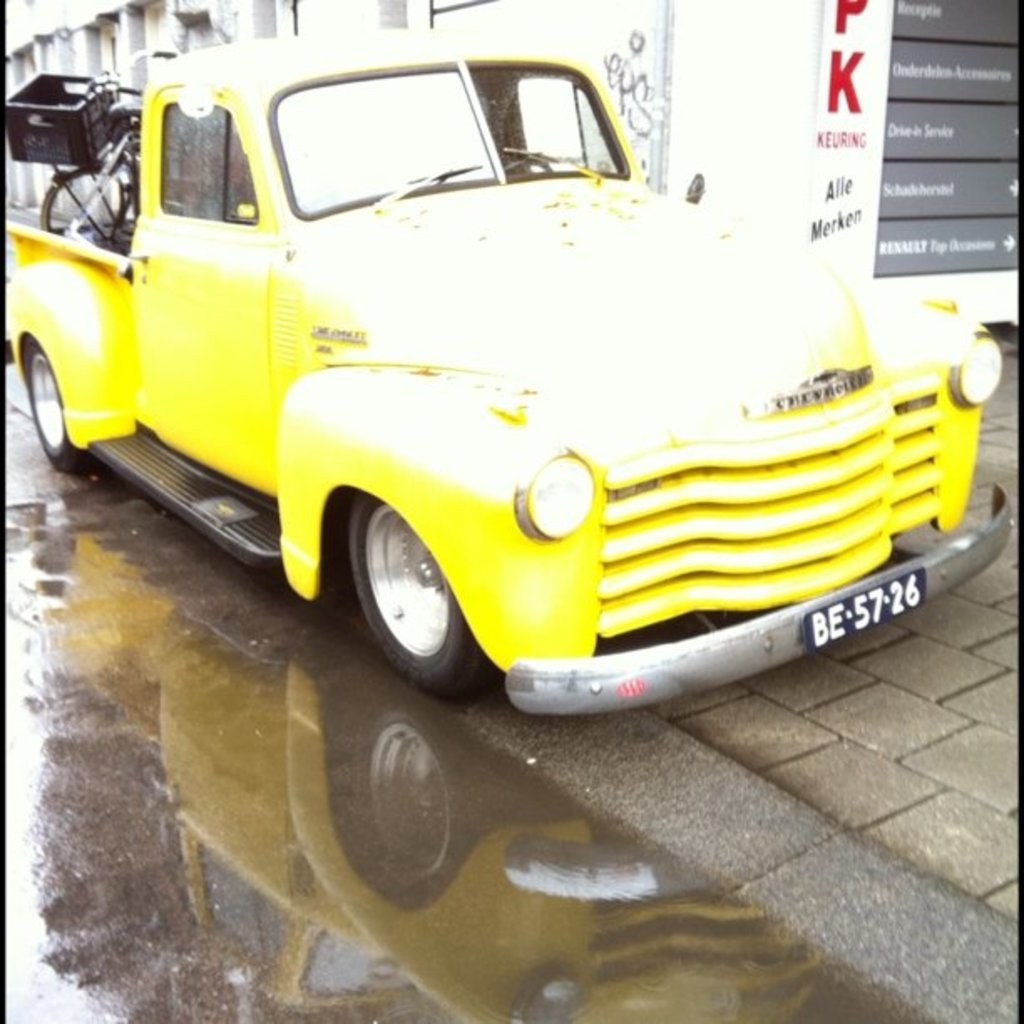Car: (0, 18, 978, 766)
